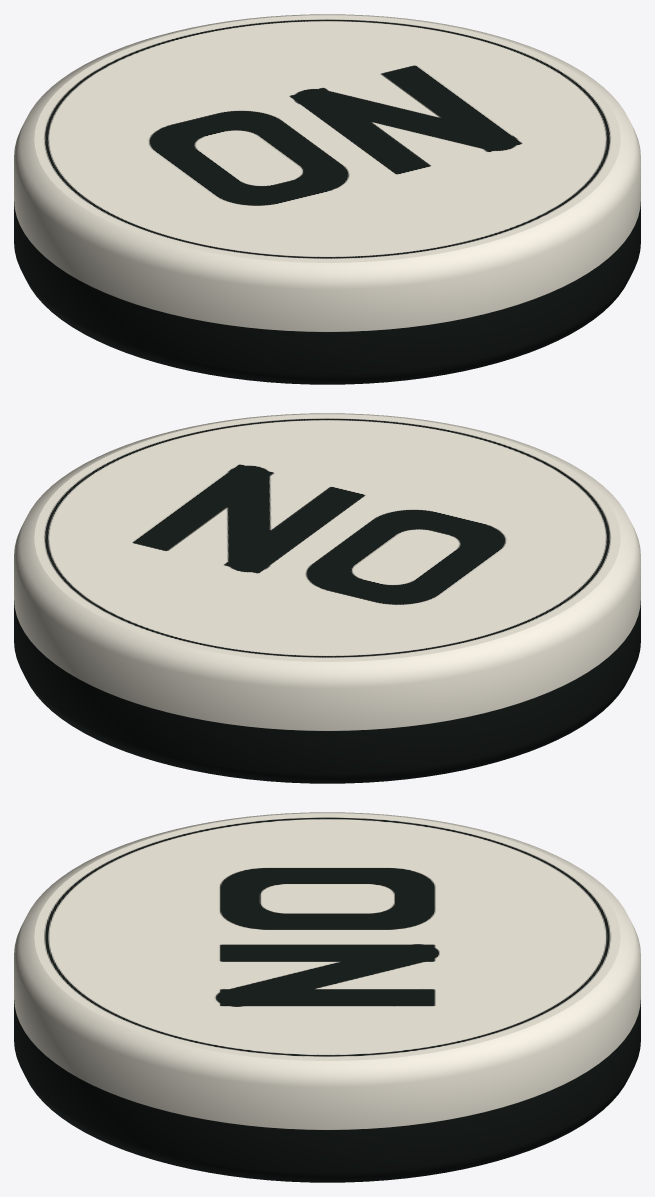
Rendered from puck.glb.
The picture shows the model from 3 angles, top to bottom: view 1: azimuth 30°, elevation 25°; view 2: azimuth 150°, elevation 25°; view 3: azimuth 270°, elevation 25°; orthographic projection.
Visible parts, largest first — view 1: Casino puck - white ON positive Y in glTF; view 2: Casino puck - white ON positive Y in glTF; view 3: Casino puck - white ON positive Y in glTF.
Part boxes in pixels (x1,y1,x2,y2): Casino puck - white ON positive Y in glTF: (14,14,640,384); Casino puck - white ON positive Y in glTF: (14,413,640,783); Casino puck - white ON positive Y in glTF: (14,812,640,1182).
Size of the model in its own units: 0.4 by 0.085 by 0.4.
1 material, 1 textured.
